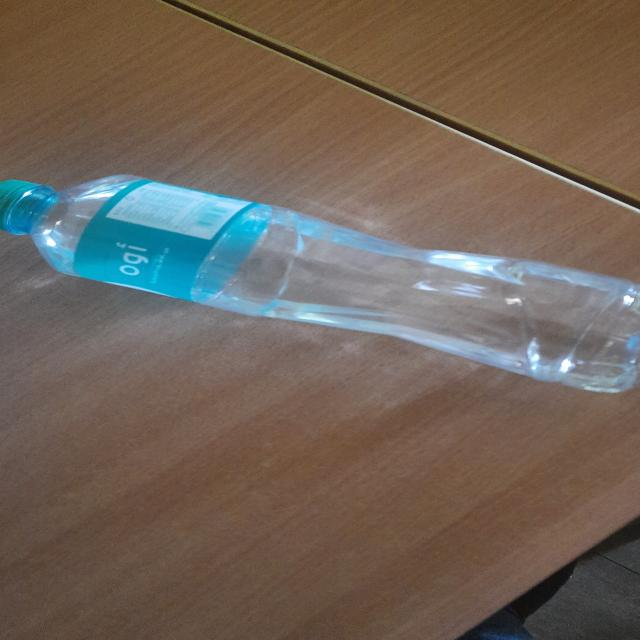plastic: (0, 175, 640, 399)
